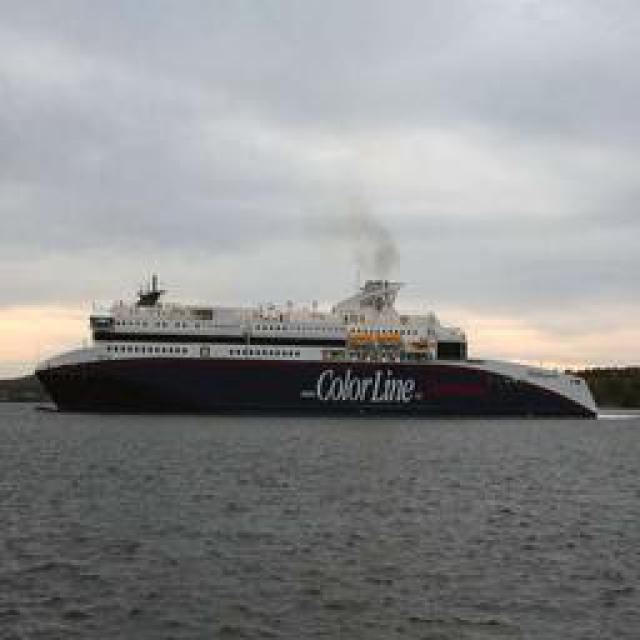Ship: (47, 320, 597, 420)
